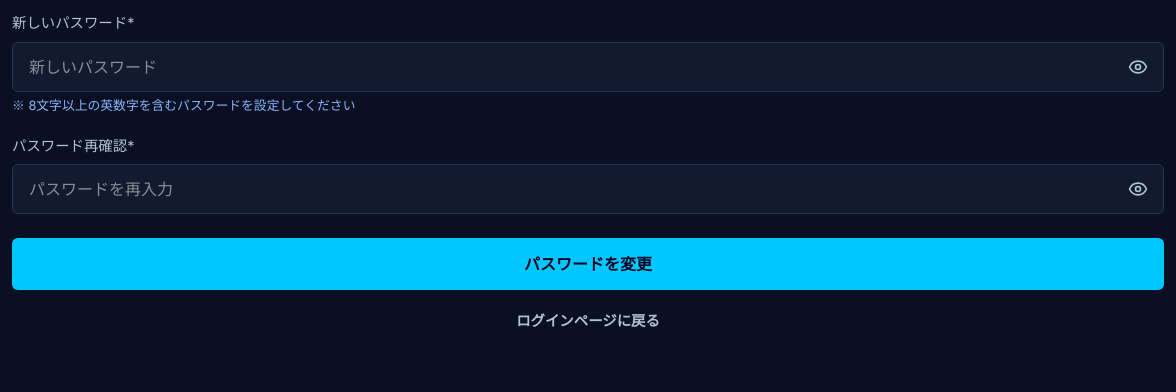
Test case: PasswordResetForm › Form Validation › should show validation errors for empty fields
This screenshot has width=1176, height=392.
Check: the password field labelled "新しいパスワード*" is shown, box [12,42,1164,92]
Click the button "パスワードを変更" at [588, 264], box [12,238,1164,290]
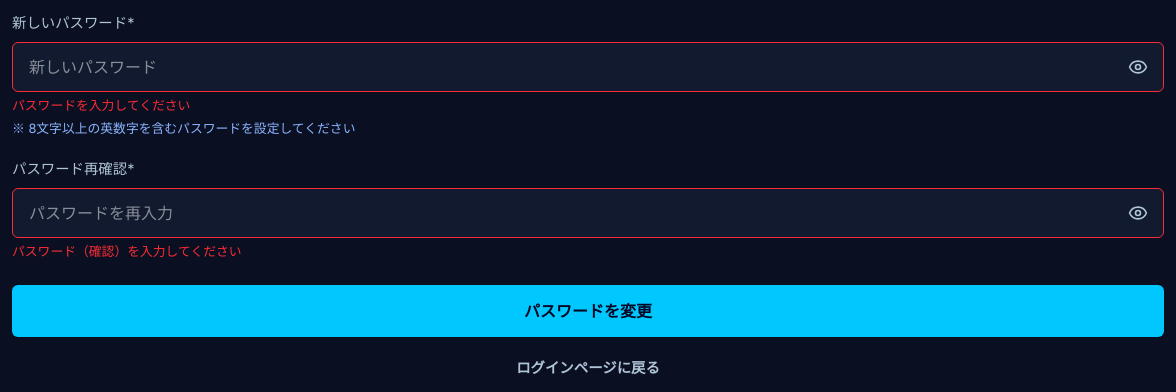
Check: the text "パスワードを入力してください" is shown, box [12,98,190,113]
Check: the text "パスワード（確認）を入力してください" is shown, box [12,244,242,259]
